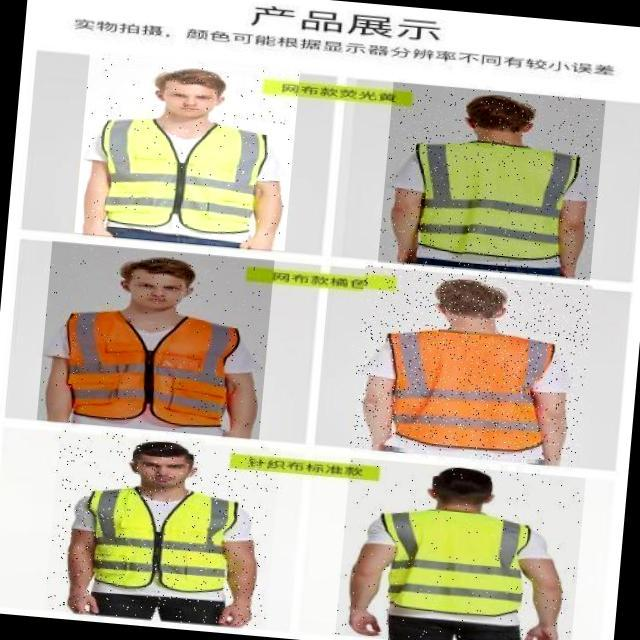Person: (372, 72, 596, 280), (327, 464, 580, 640), (78, 55, 287, 256), (350, 280, 577, 462), (59, 440, 263, 631), (47, 259, 264, 434)
Safety Vest: (45, 304, 248, 434), (376, 329, 569, 459), (90, 112, 279, 242), (405, 134, 584, 262), (63, 480, 247, 601), (373, 509, 540, 626)
bare-arms: (219, 596, 258, 633), (345, 606, 385, 637), (64, 588, 103, 613), (524, 618, 558, 639)
no-helmet: (146, 69, 233, 102), (432, 274, 503, 309), (466, 89, 544, 120), (123, 255, 194, 282), (426, 462, 497, 487), (128, 438, 197, 462)
